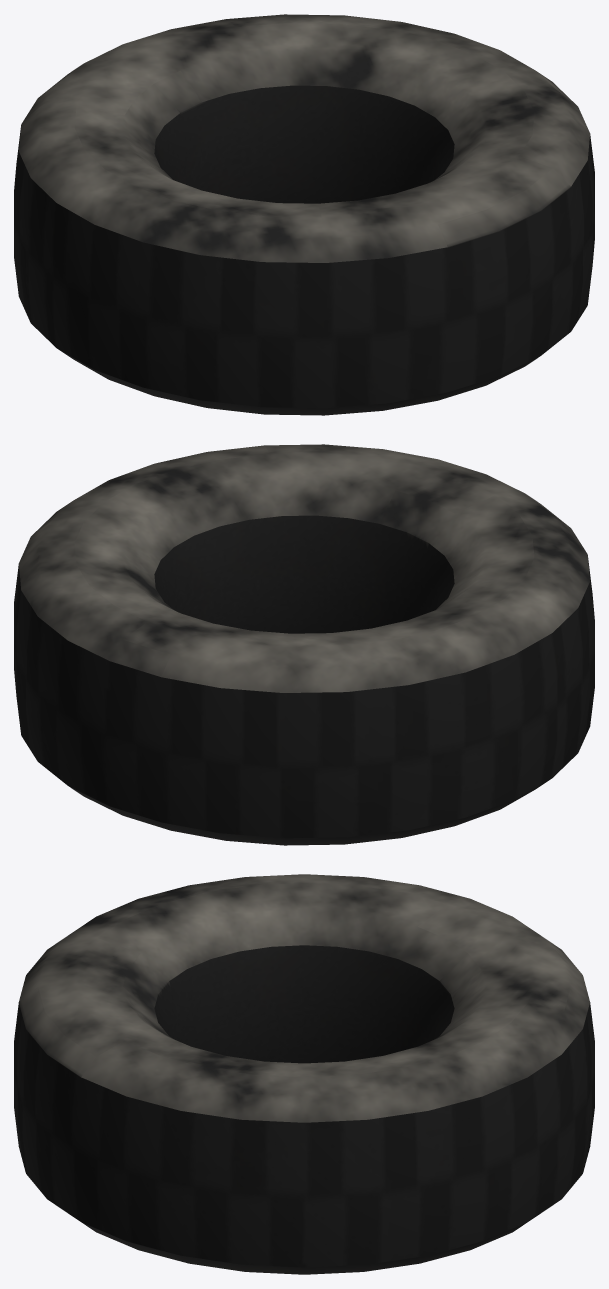
The model's file is W2_Tyre.fbx.
3 views of the same model, one above another, from view 1: azimuth 30°, elevation 25°; view 2: azimuth 150°, elevation 25°; view 3: azimuth 270°, elevation 25° (orthographic).
Parts seen in each view (by area): view 1: W2_Tyre; view 2: W2_Tyre; view 3: W2_Tyre.
Part boxes in pixels (box(x1,y1,x2,y2)): W2_Tyre: box(14, 14, 594, 415); W2_Tyre: box(14, 444, 594, 845); W2_Tyre: box(14, 874, 594, 1274).
Size of the model in its own units: 240 by 86 by 240.
1 material, 1 textured.
